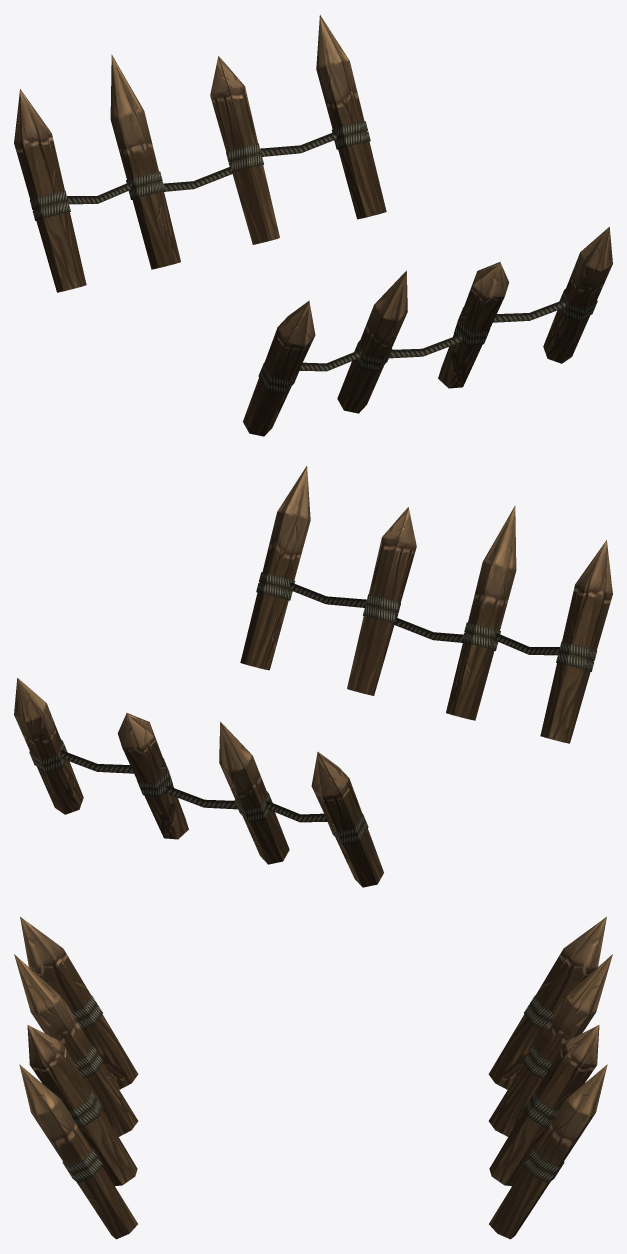
File: scaffolding_07.fbx
3 views of the same model, one above another, from view 1: azimuth 30°, elevation 25°; view 2: azimuth 150°, elevation 25°; view 3: azimuth 270°, elevation 25° (orthographic).
Parts seen in each view (by area): view 1: scaffolding_07; view 2: scaffolding_07; view 3: scaffolding_07.
Boxes of the visible parts, x1=… form: scaffolding_07: x1=14, y1=15, x2=612, y2=436; scaffolding_07: x1=14, y1=466, x2=612, y2=887; scaffolding_07: x1=14, y1=917, x2=612, y2=1239.
Bounding box in the file's own units: 244 × 127 × 379.
